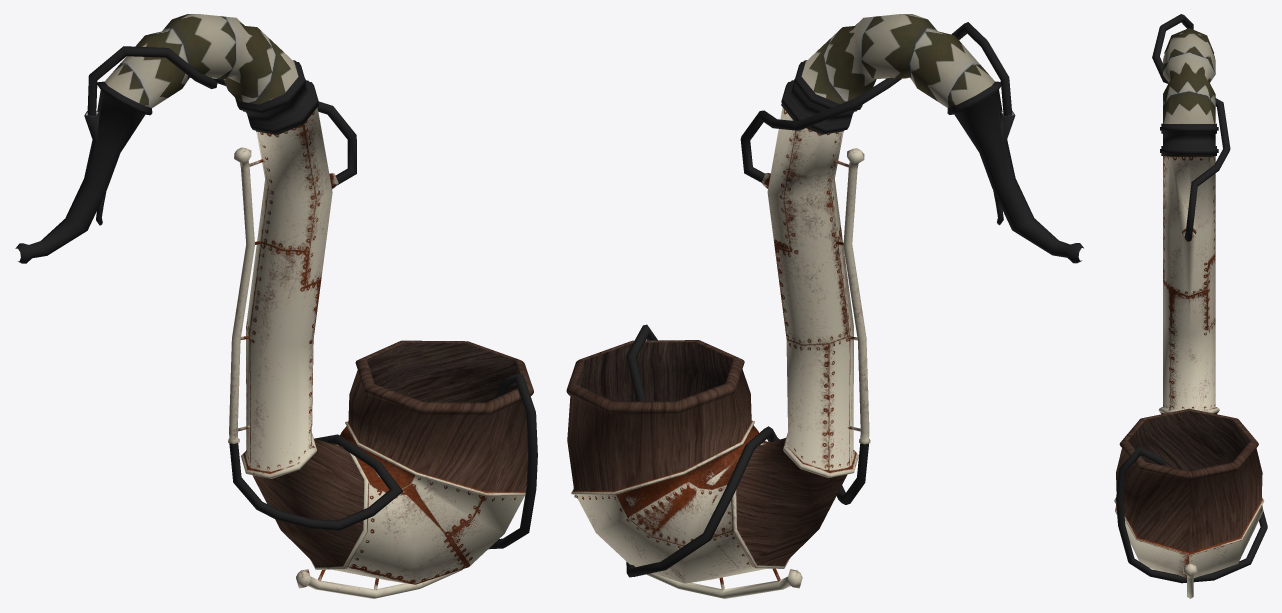
3 views of the same model, side by side, from view 1: azimuth 30°, elevation 25°; view 2: azimuth 150°, elevation 25°; view 3: azimuth 270°, elevation 25° (orthographic). The views are drawn at different scales.
Visible parts, largest first — view 1: tobaccoo pipe_Low_1; view 2: tobaccoo pipe_Low_1; view 3: tobaccoo pipe_Low_1.
Boxes of the visible parts, <box> form: tobaccoo pipe_Low_1: <box>15,14,537,598</box>; tobaccoo pipe_Low_1: <box>566,14,1083,598</box>; tobaccoo pipe_Low_1: <box>1114,14,1267,598</box>.
Bounding box in the file's own units: 8.92 × 10.56 × 3.11.
1 material, 1 textured.
